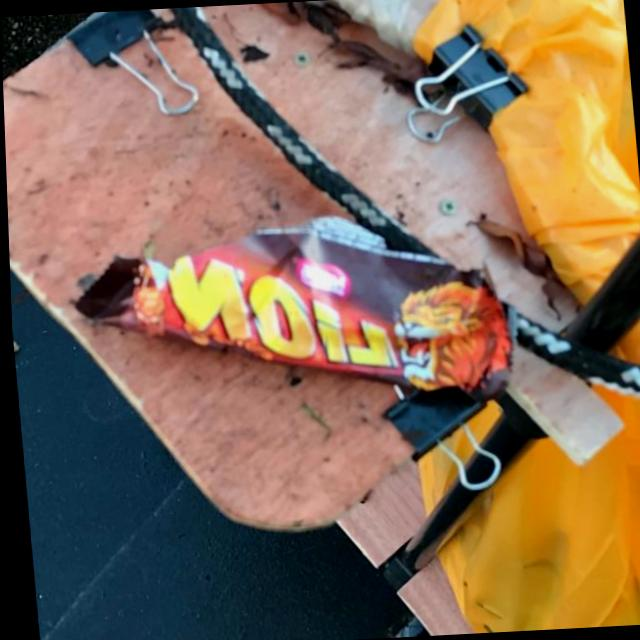Plastic: (61, 200, 521, 438)
